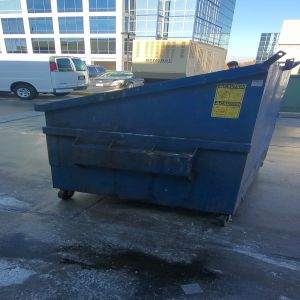Dumpster: (41, 68, 291, 227)
Person: (225, 61, 241, 70)
